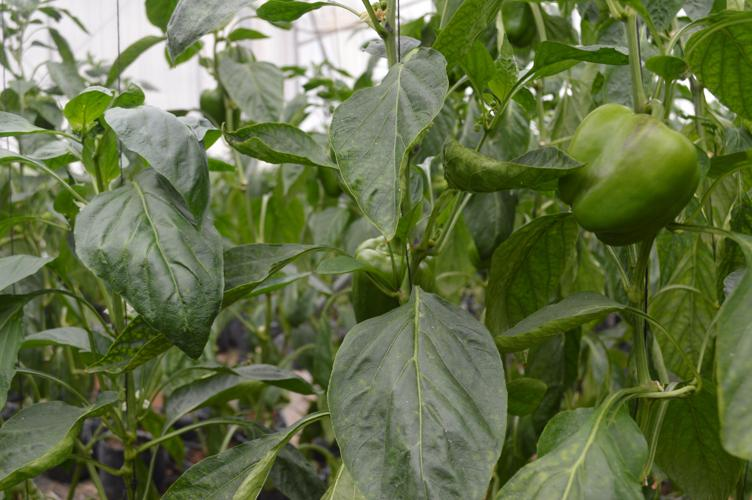BellPepper: (550, 85, 703, 247), (347, 231, 446, 331)
